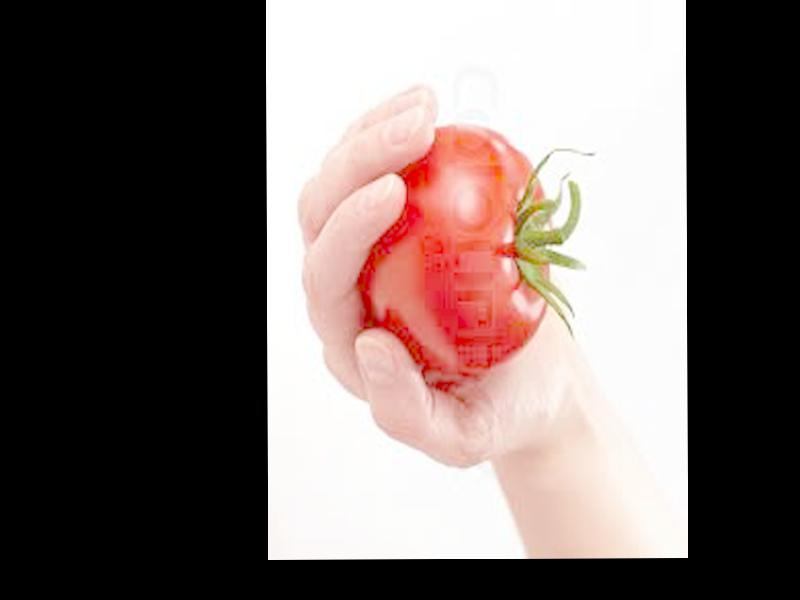Tomato: (360, 124, 553, 370)
